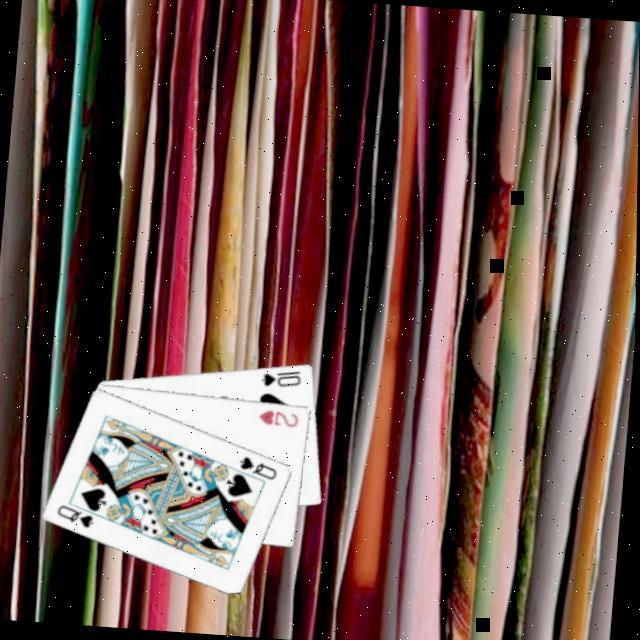10S: (257, 363, 305, 390)
2H: (255, 405, 302, 429)
QS: (235, 451, 281, 482), (53, 500, 99, 531)
